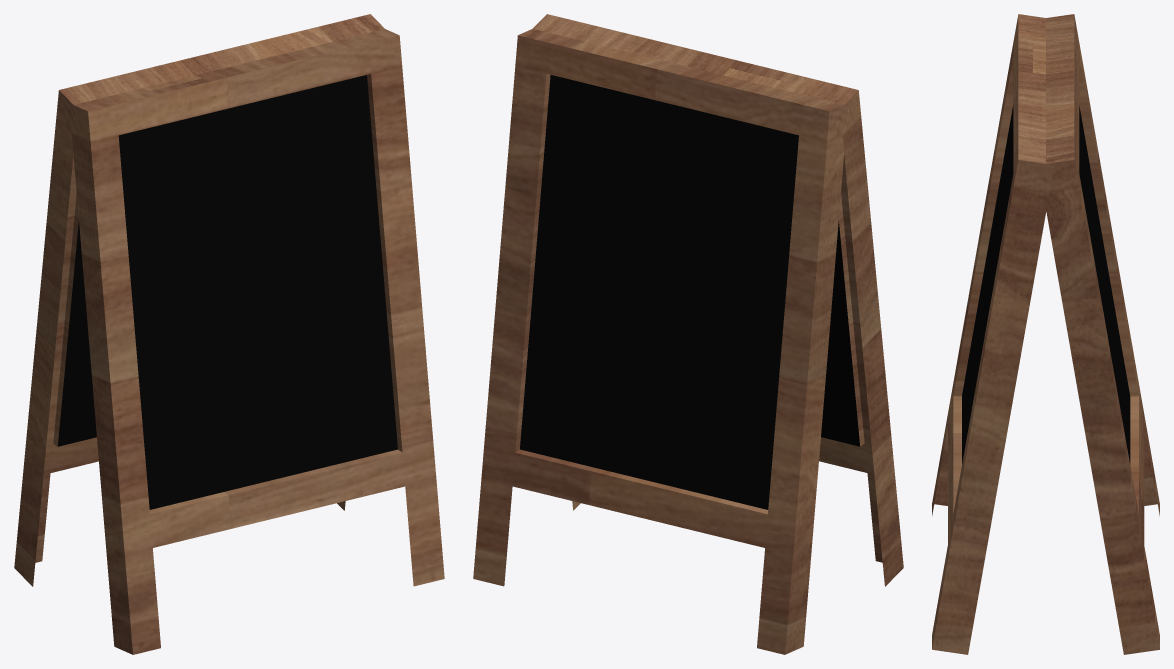
Rendered from _blackboard.glb.
The picture shows the model from 3 angles, left to right: view 1: azimuth 30°, elevation 25°; view 2: azimuth 150°, elevation 25°; view 3: azimuth 270°, elevation 25°; orthographic projection. The views are drawn at different scales.
Parts seen in each view (by area): view 1: ScoreBoard, Cube; view 2: ScoreBoard, Cube; view 3: Cube, ScoreBoard.
Part boxes in pixels (left/top/right/bottom): ScoreBoard: left=57, top=75, right=397, bottom=509; Cube: left=14, top=14, right=444, bottom=654; ScoreBoard: left=520, top=75, right=859, bottom=509; Cube: left=473, top=14, right=903, bottom=654; Cube: left=932, top=14, right=1159, bottom=654; ScoreBoard: left=962, top=105, right=1130, bottom=464.
Bounding box in the file's own units: 4.02 × 6.37 × 2.66.
2 materials, 1 textured.
